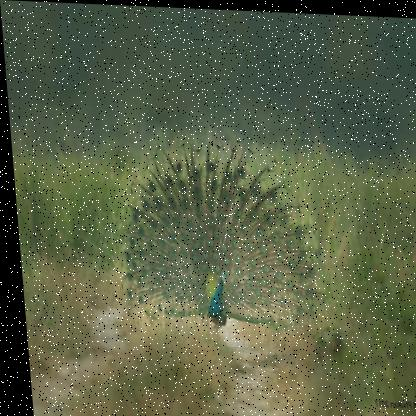Burung: (109, 133, 322, 331)
